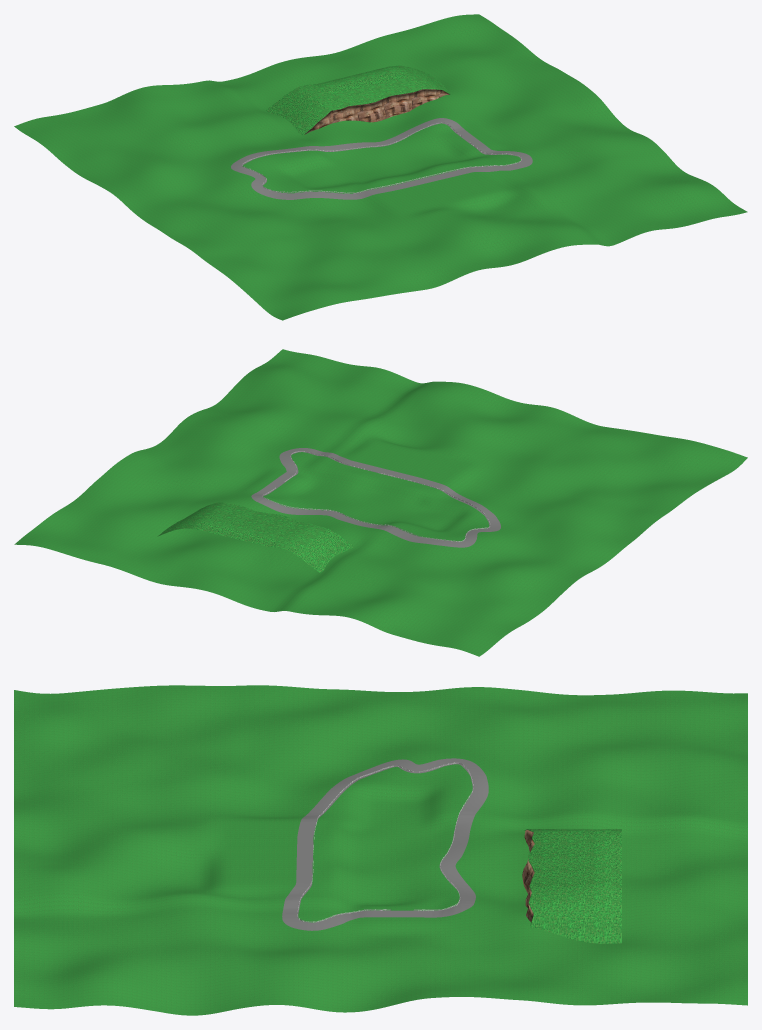
File: Sjin'sFarmTest.fbx
3 renders of one model, top to bottom at view 1: azimuth 30°, elevation 25°; view 2: azimuth 150°, elevation 25°; view 3: azimuth 270°, elevation 25°, orthographic. The views are drawn at different scales.
Visible parts, largest first — view 1: Fields, Back CliffFace, Road, inner fence applied; view 2: Fields, Back CliffFace, Road, inner fence applied; view 3: Fields, Back CliffFace, Road, inner fence applied.
Part boxes in pixels (left/top/right/bottom): Fields: left=14, top=14, right=747, bottom=320; Back CliffFace: left=265, top=65, right=450, bottom=135; Road: left=231, top=118, right=532, bottom=199; inner fence applied: left=242, top=122, right=521, bottom=193; Fields: left=14, top=349, right=747, bottom=656; Back CliffFace: left=157, top=502, right=354, bottom=572; Road: left=251, top=448, right=500, bottom=547; inner fence applied: left=262, top=451, right=490, bottom=541; Fields: left=14, top=685, right=747, bottom=1015; Back CliffFace: left=522, top=829, right=621, bottom=943; Road: left=282, top=758, right=488, bottom=930; inner fence applied: left=297, top=762, right=473, bottom=922.
Size of what is drawn, in the model's own units: 38.1 by 2.05 by 38.1.
